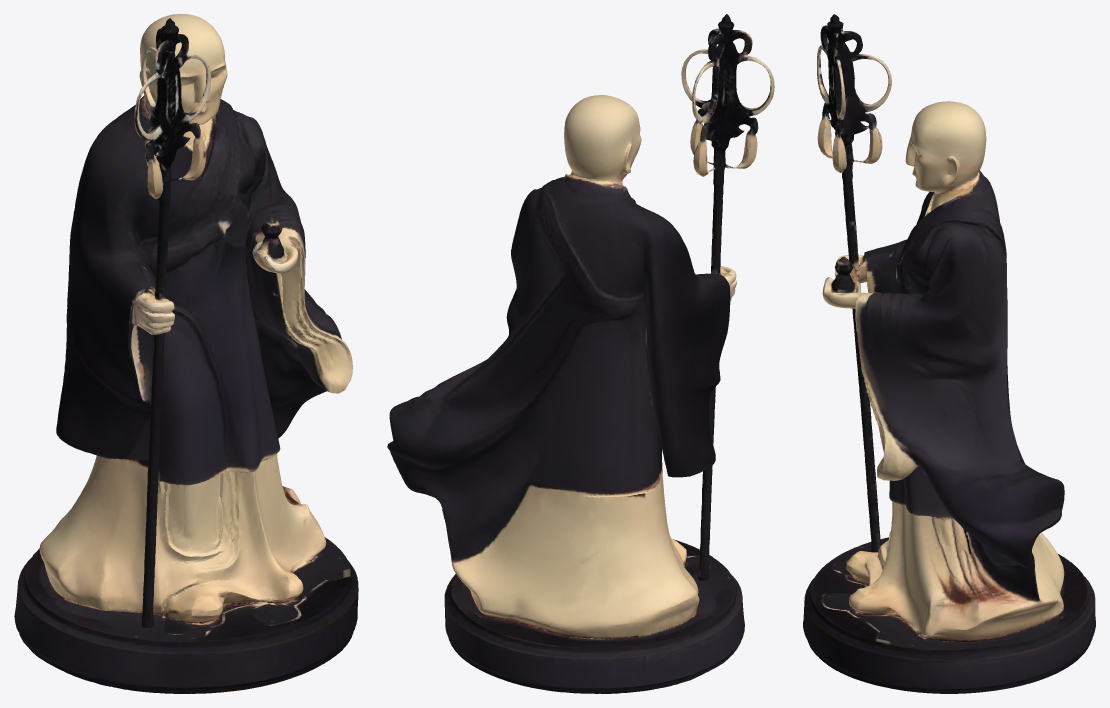
The model's file is bishop_black.glb.
3 renders of one model, left to right at view 1: azimuth 30°, elevation 25°; view 2: azimuth 150°, elevation 25°; view 3: azimuth 270°, elevation 25°, orthographic. The views are drawn at different scales.
Visible parts, largest first — view 1: model; view 2: model; view 3: model.
Boxes of the visible parts, x1,y1,x2,y2 form: model: (14,14,358,693); model: (387,14,774,693); model: (803,14,1095,693).
Bounding box in the file's own units: 0.987 × 1.9 × 0.8653.
1 material, 1 textured.
